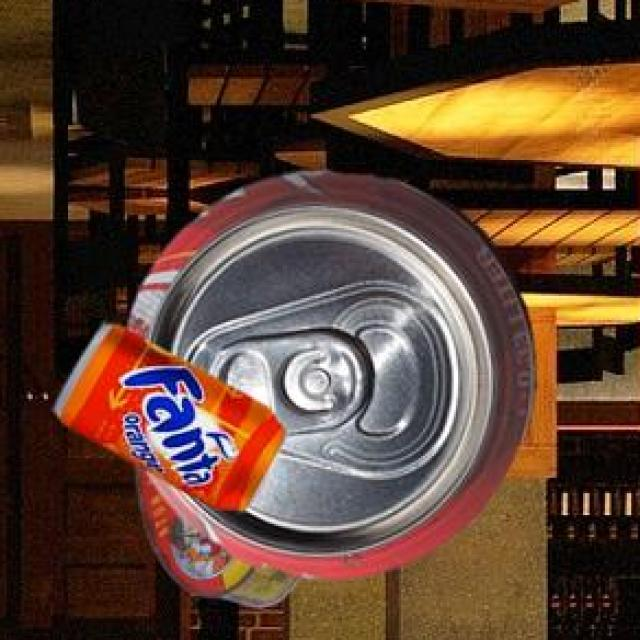logam: (130, 174, 538, 582), (58, 328, 290, 514), (140, 468, 302, 610)
